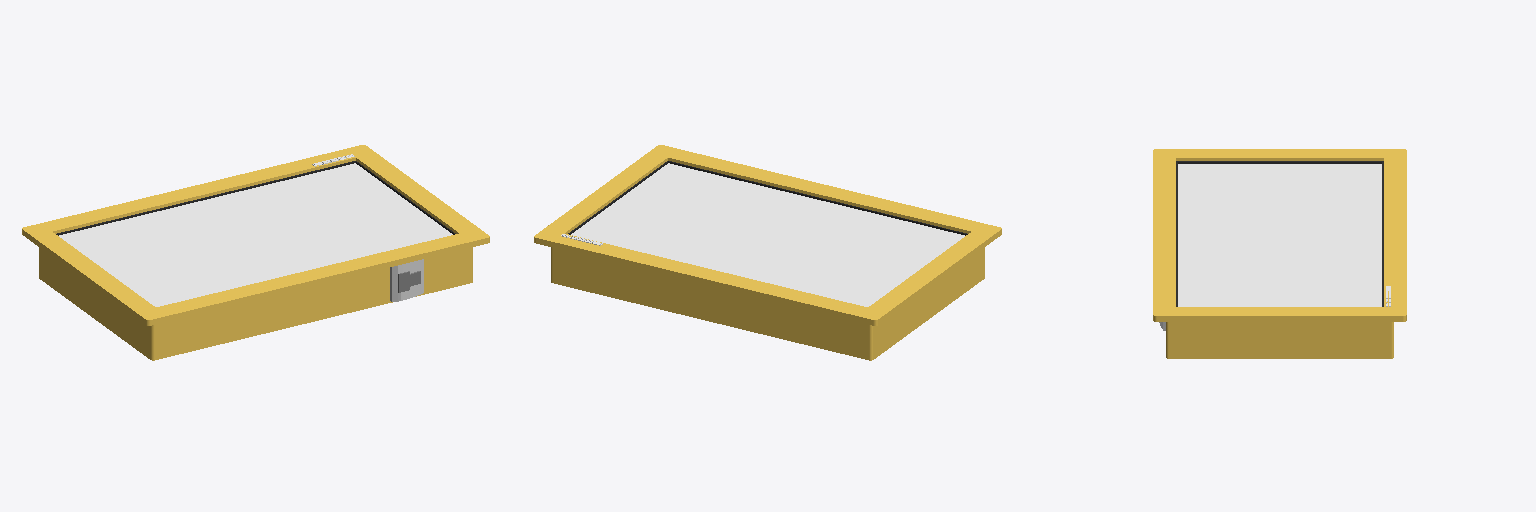
File: meera.obj
The picture shows the model from 3 angles: view 1: azimuth 30°, elevation 25°; view 2: azimuth 150°, elevation 25°; view 3: azimuth 270°, elevation 25°; orthographic projection.
Parts seen in each view (by area): view 1: Mesh12 Model, Mesh1 Group1 Model; view 2: Mesh12 Model; view 3: Mesh12 Model.
Part boxes in pixels (x1,y1,x2,y2): Mesh12 Model: (22, 145, 489, 360); Mesh1 Group1 Model: (390, 259, 423, 301); Mesh12 Model: (534, 145, 1001, 360); Mesh12 Model: (1153, 149, 1406, 358).
Bounding box in the file's own units: 63.7 × 8.53 × 40.67.